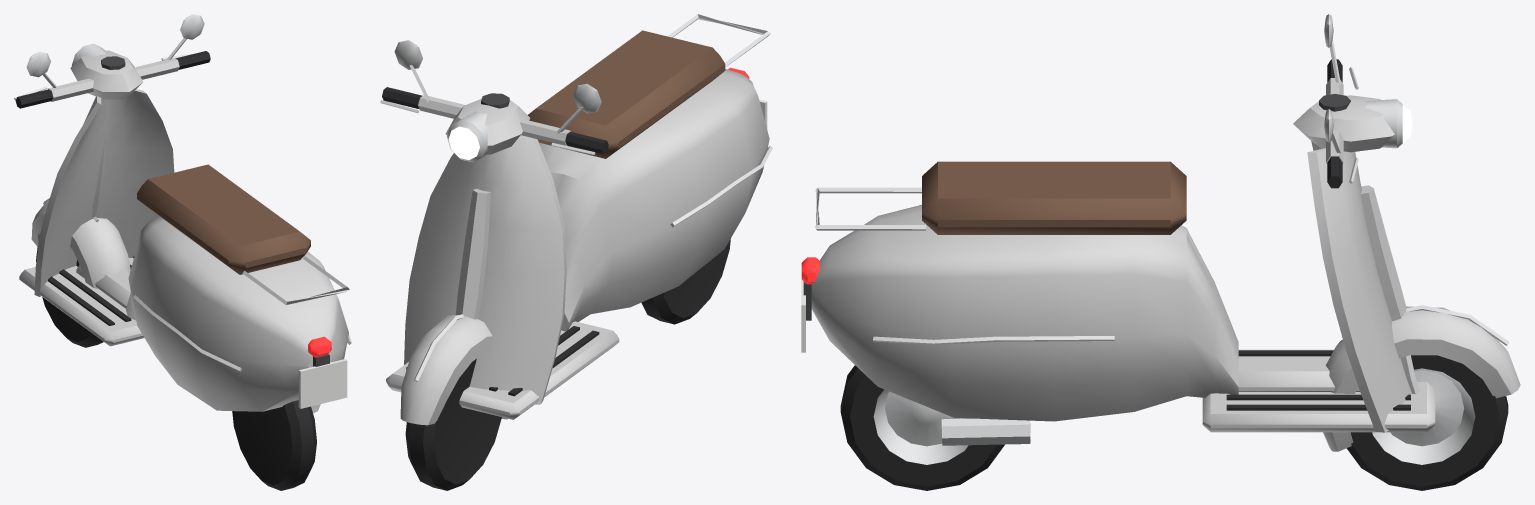
Rendered from Scooter.fbx.
3 renders of one model, left to right at view 1: azimuth 30°, elevation 25°; view 2: azimuth 150°, elevation 25°; view 3: azimuth 270°, elevation 25°, orthographic. The views are drawn at different scales.
Parts seen in each view (by area): view 1: Body, Steer, Wheel_R, Wheel_F; view 2: Body, Steer, Wheel_F, Wheel_R; view 3: Body, Steer, Wheel_F, Wheel_R.
Boxes of the visible parts, box(x1,y1,x2,y2) form: Body: box(19, 89, 351, 413); Steer: box(14, 14, 210, 288); Wheel_R: box(232, 400, 316, 490); Wheel_F: box(36, 246, 103, 347); Body: box(386, 14, 772, 419); Steer: box(380, 40, 608, 425); Wheel_F: box(405, 358, 501, 490); Wheel_R: box(641, 238, 730, 324); Body: box(801, 141, 1435, 445); Steer: box(1293, 14, 1520, 451); Wheel_F: box(1346, 355, 1508, 490); Wheel_R: box(840, 365, 1004, 490).
Size of what is drawn, in the model's own units: 0.69 by 1.17 by 1.79.
